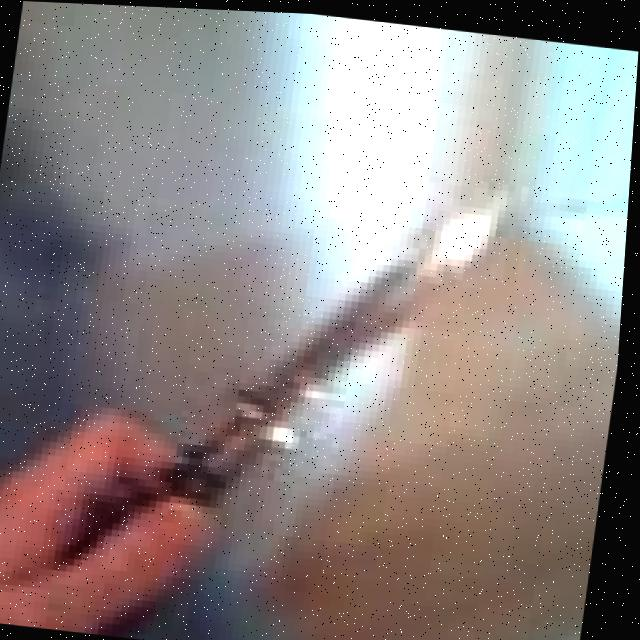knife: (155, 138, 520, 531)
